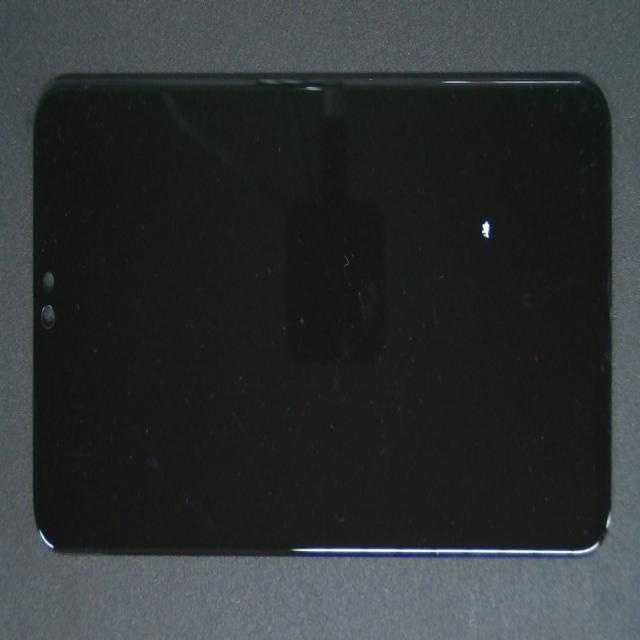stain: (247, 77, 640, 310)
